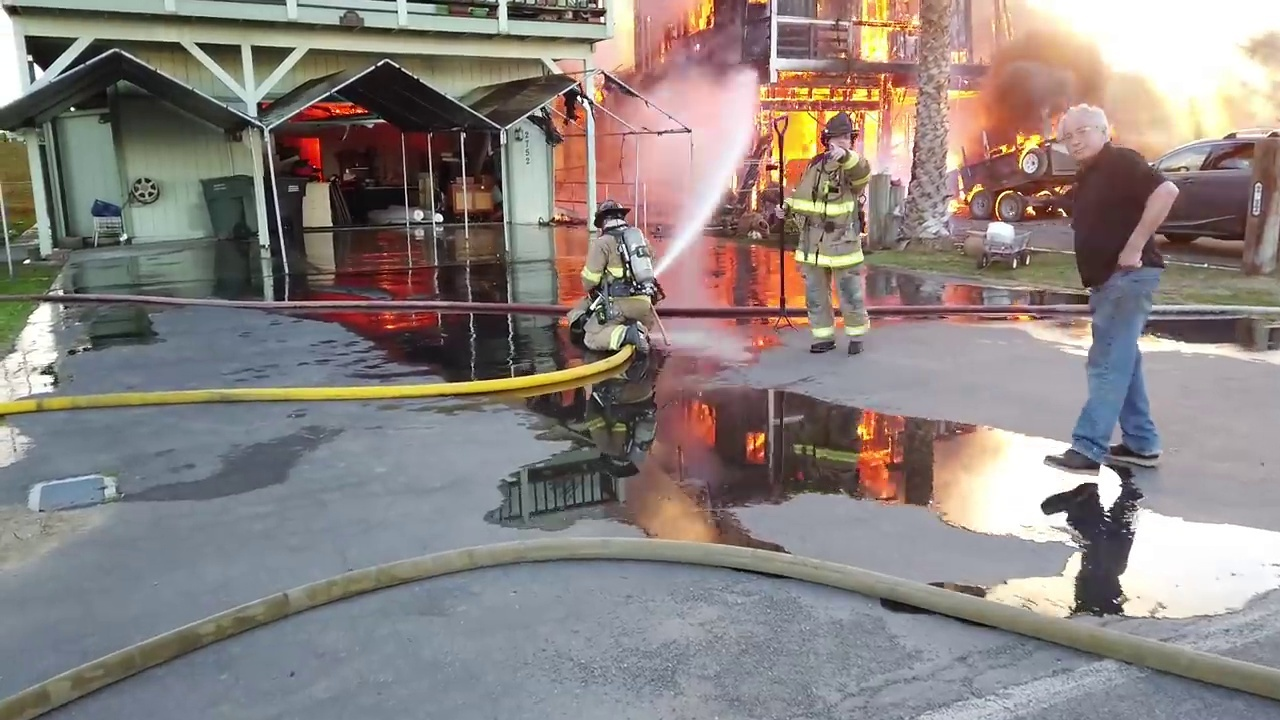fire: (863, 98, 916, 181), (809, 81, 983, 104), (767, 86, 819, 161), (854, 1, 903, 60), (293, 94, 373, 123), (284, 135, 325, 177), (684, 1, 718, 36), (951, 181, 983, 210)
smoke: (955, 2, 1156, 132), (1146, 34, 1279, 131), (624, 1, 682, 48)
